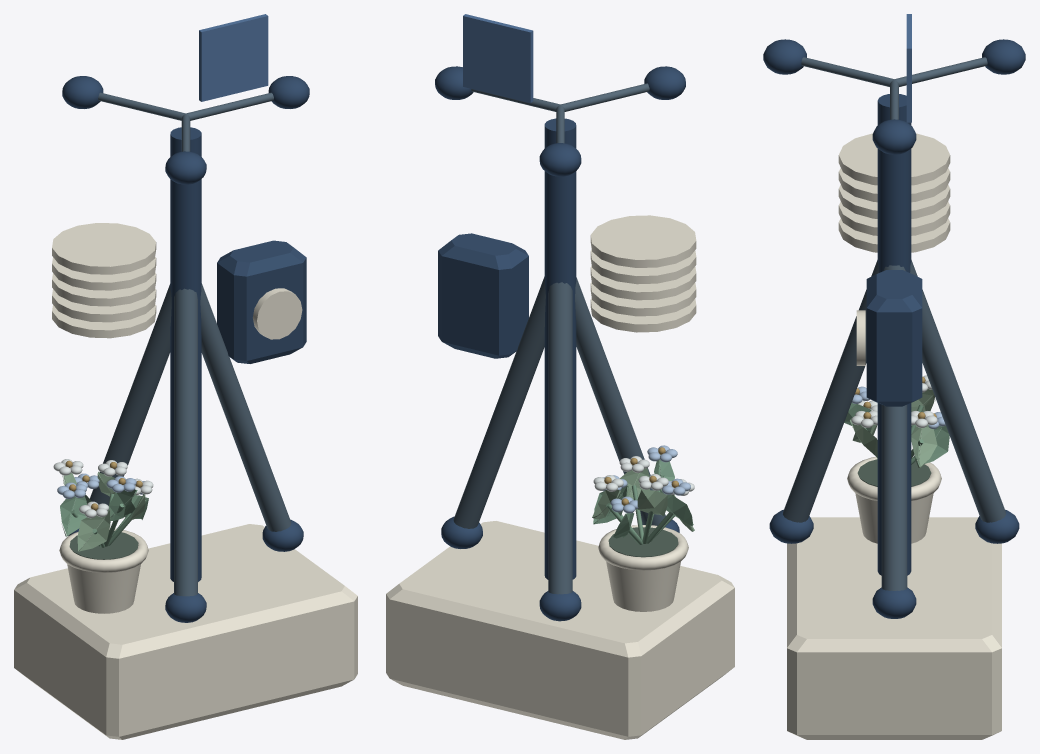
File: v18_special_weather_station.glb
The picture shows the model from 3 angles, left to right: view 1: azimuth 30°, elevation 25°; view 2: azimuth 150°, elevation 25°; view 3: azimuth 270°, elevation 25°; orthographic projection. The views are drawn at different scales.
Parts seen in each view (by area): view 1: _MeshInstance3D_5013, _MeshInstance3D_5026, _MeshInstance3D_5017, _MeshInstance3D_5014, _MeshInstance3D_5015, _MeshInstance3D_5034, _MeshInstance3D_5025, _MeshInstance3D_5019, _MeshInstance3D_5035, _MeshInstance3D_5027, _MeshInstance3D_5024, _MeshInstance3D_5023 (+13 smaller); view 2: _MeshInstance3D_5013, _MeshInstance3D_5026, _MeshInstance3D_5019, _MeshInstance3D_5014, _MeshInstance3D_5015, _MeshInstance3D_5034, _MeshInstance3D_5025, _MeshInstance3D_5017, _MeshInstance3D_5035, _MeshInstance3D_5024, _MeshInstance3D_5021, _MeshInstance3D_5022 (+10 smaller); view 3: _MeshInstance3D_5013, _MeshInstance3D_5026, _MeshInstance3D_5014, _MeshInstance3D_5019, _MeshInstance3D_5017, _MeshInstance3D_5015, _MeshInstance3D_5025, _MeshInstance3D_5035, _MeshInstance3D_5021, _MeshInstance3D_5022, _MeshInstance3D_5024, _MeshInstance3D_5023 (+14 smaller).
Part boxes in pixels (x1,y1,x2,y2): _MeshInstance3D_5013: (14, 524, 357, 739); _MeshInstance3D_5026: (217, 240, 306, 363); _MeshInstance3D_5017: (174, 288, 197, 596); _MeshInstance3D_5014: (170, 127, 201, 581); _MeshInstance3D_5015: (200, 283, 291, 531); _MeshInstance3D_5034: (199, 14, 268, 101); _MeshInstance3D_5025: (52, 223, 156, 274); _MeshInstance3D_5019: (89, 284, 171, 505); _MeshInstance3D_5035: (67, 564, 140, 613); _MeshInstance3D_5027: (252, 288, 302, 339); _MeshInstance3D_5024: (52, 257, 156, 290); _MeshInstance3D_5023: (52, 272, 156, 306); _MeshInstance3D_5013: (386, 521, 734, 739); _MeshInstance3D_5026: (438, 233, 528, 358); _MeshInstance3D_5019: (548, 282, 572, 594); _MeshInstance3D_5014: (544, 118, 576, 579); _MeshInstance3D_5015: (453, 276, 545, 528); _MeshInstance3D_5034: (463, 14, 533, 103); _MeshInstance3D_5025: (590, 215, 696, 267); _MeshInstance3D_5017: (575, 277, 665, 525); _MeshInstance3D_5035: (606, 561, 680, 611); _MeshInstance3D_5024: (590, 250, 696, 284); _MeshInstance3D_5021: (590, 298, 696, 332); _MeshInstance3D_5022: (590, 282, 696, 316); _MeshInstance3D_5013: (787, 517, 1001, 739); _MeshInstance3D_5026: (866, 270, 922, 406); _MeshInstance3D_5014: (877, 94, 911, 575); _MeshInstance3D_5019: (910, 260, 1005, 522); _MeshInstance3D_5017: (783, 260, 878, 522); _MeshInstance3D_5015: (881, 265, 907, 590); _MeshInstance3D_5025: (838, 133, 950, 185); _MeshInstance3D_5035: (855, 493, 933, 543); _MeshInstance3D_5021: (838, 218, 950, 252); _MeshInstance3D_5022: (838, 201, 950, 235); _MeshInstance3D_5024: (838, 168, 950, 202); _MeshInstance3D_5023: (838, 184, 950, 218).
Bounding box in the file's own units: 0.8724 × 2.1 × 0.7387.
